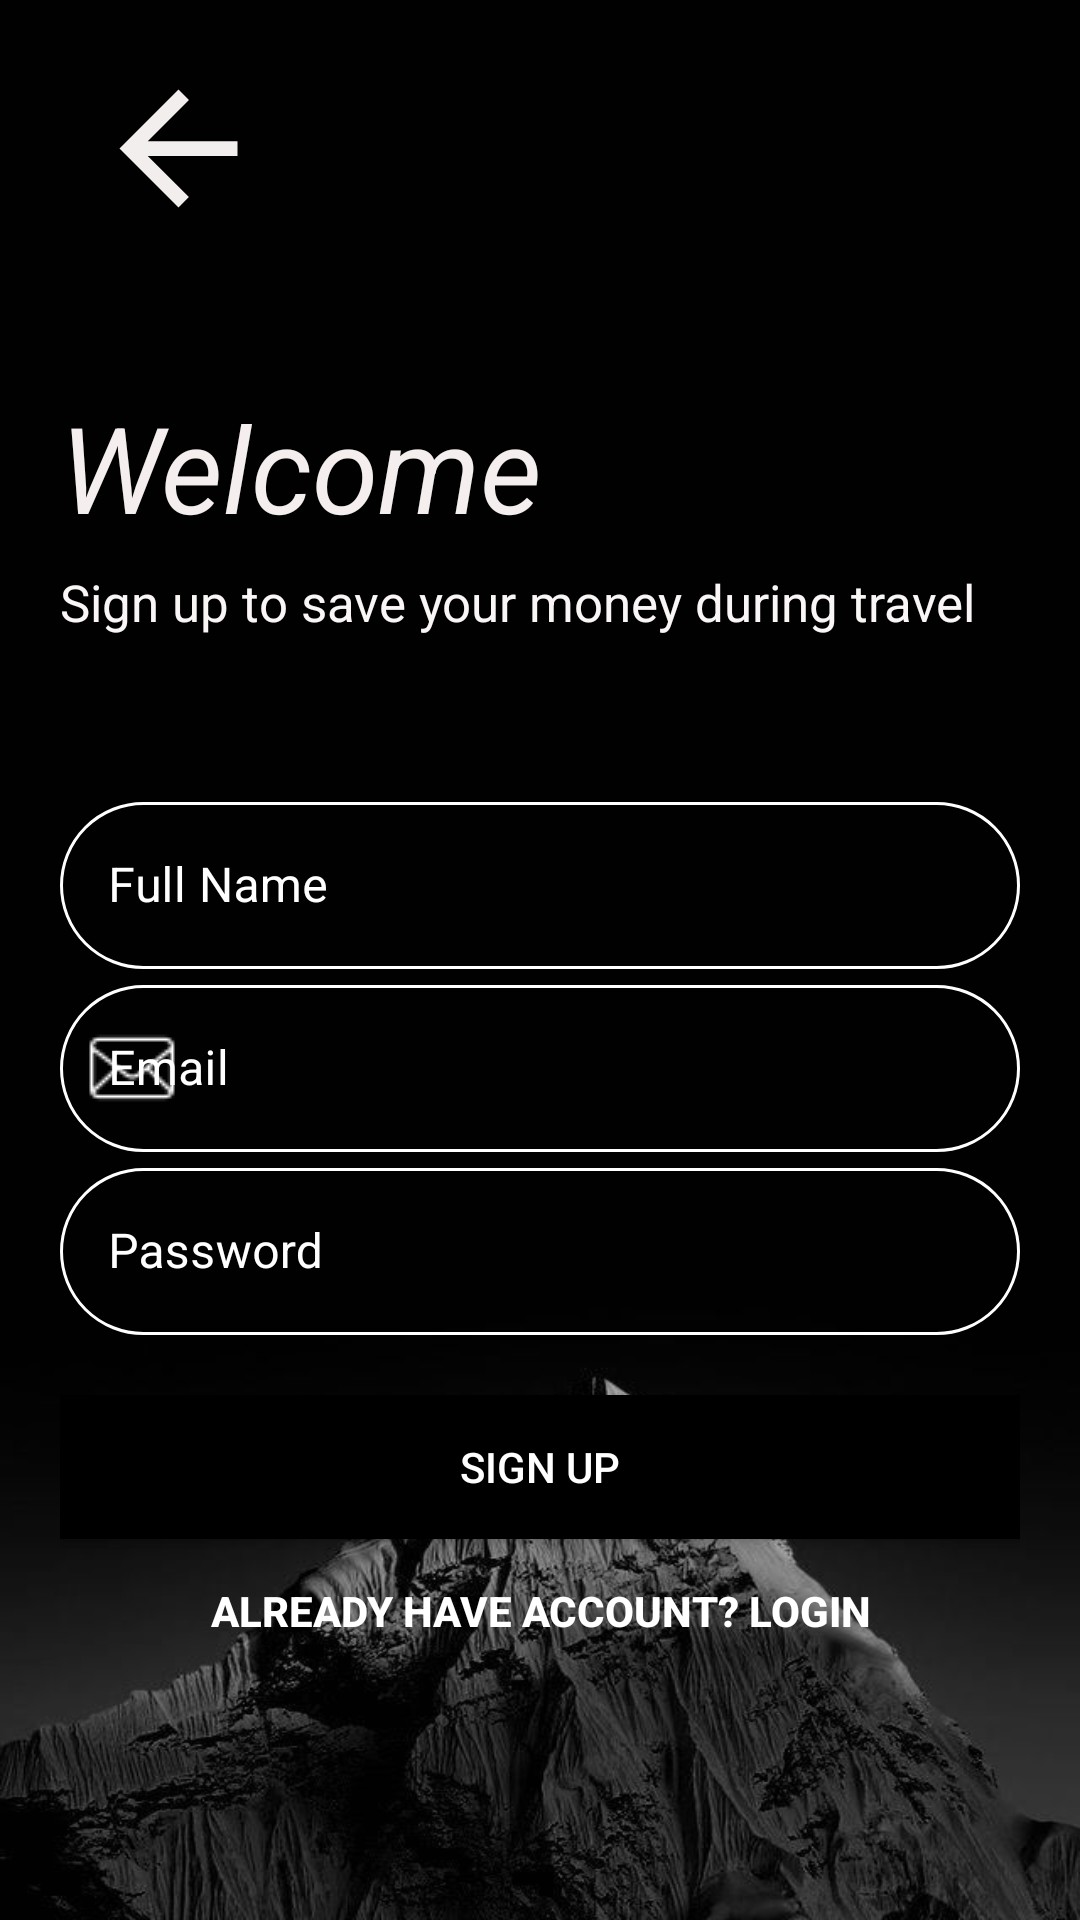

Screen size 1080 × 1920. Icon name, then its center in pixels as point (x, y):
back: point (178, 148)
